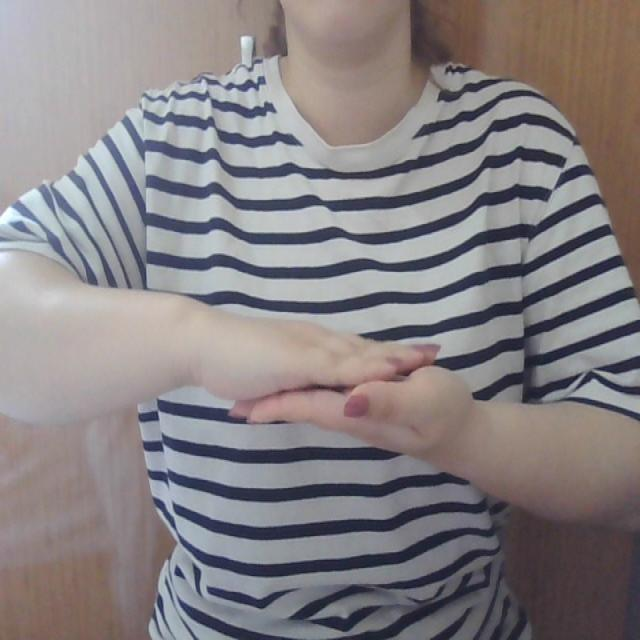Arkadas: (167, 270, 545, 464)
